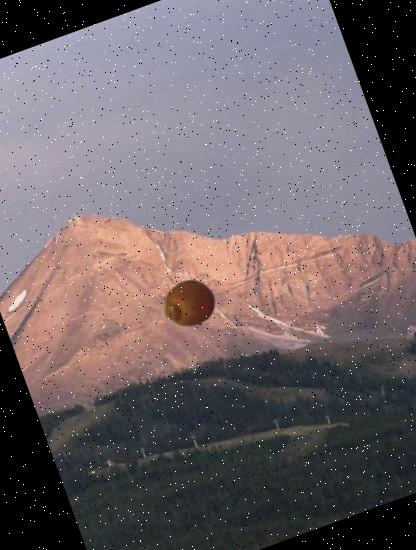Tangelo: (155, 269, 223, 337)
